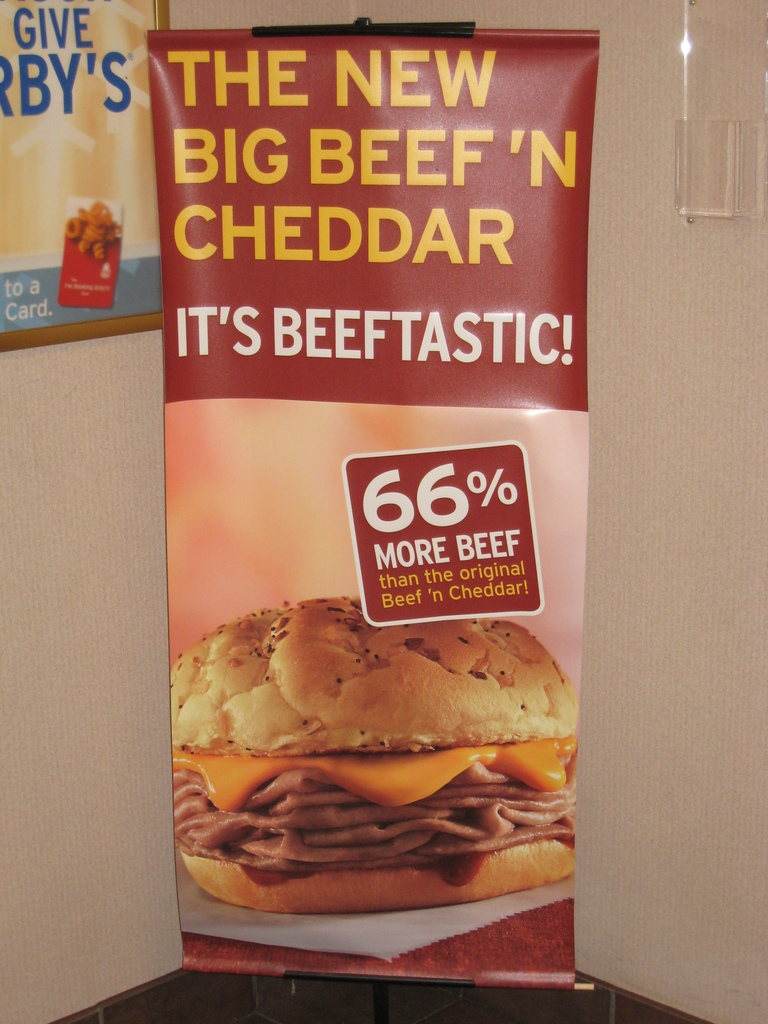Hamburger: (169, 595, 576, 917)
